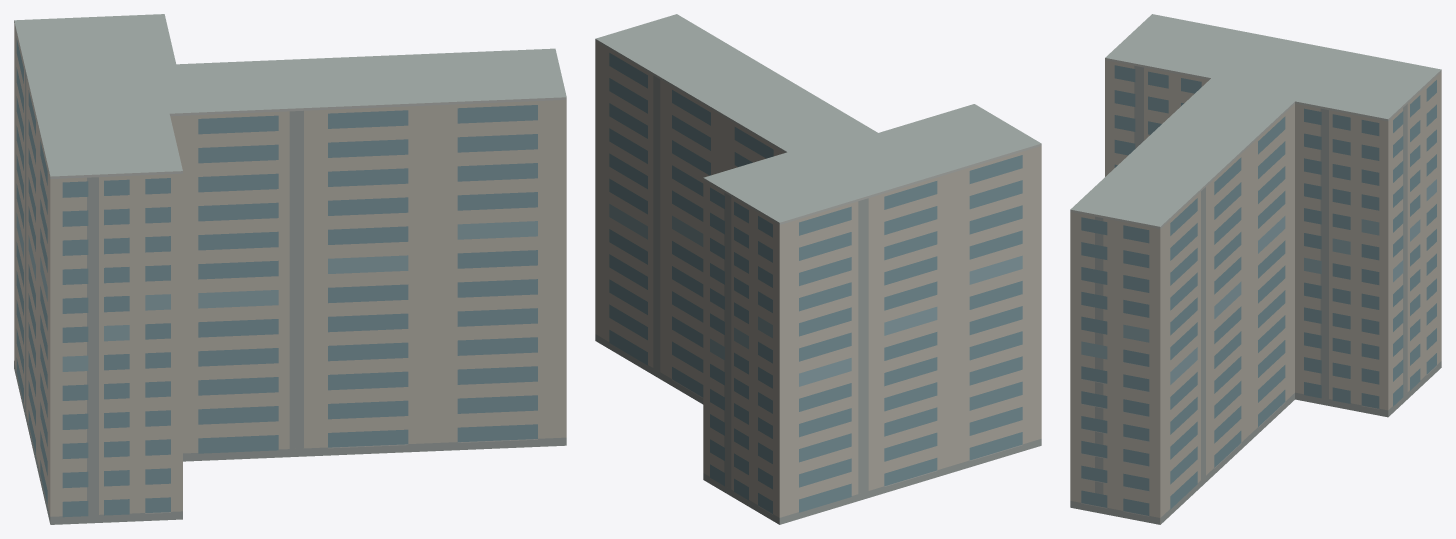
Rendered from residential-a78e670b-7097-4f1d-976e-1bda6cc8d657.glb.
The picture shows the model from 3 angles, left to right: view 1: azimuth 30°, elevation 25°; view 2: azimuth 150°, elevation 25°; view 3: azimuth 270°, elevation 25°; orthographic projection. The views are drawn at different scales.
Parts seen in each view (by area): view 1: residential-a78e670b-7097-4f1d-976e-1bda6cc8d657.tmp; view 2: residential-a78e670b-7097-4f1d-976e-1bda6cc8d657.tmp; view 3: residential-a78e670b-7097-4f1d-976e-1bda6cc8d657.tmp.
Boxes of the visible parts, box(x1,y1,x2,y2) form: residential-a78e670b-7097-4f1d-976e-1bda6cc8d657.tmp: box(14, 14, 566, 524); residential-a78e670b-7097-4f1d-976e-1bda6cc8d657.tmp: box(595, 14, 1041, 524); residential-a78e670b-7097-4f1d-976e-1bda6cc8d657.tmp: box(1070, 14, 1441, 524).
Bounding box in the file's own units: 49.02 × 32 × 36.15.
